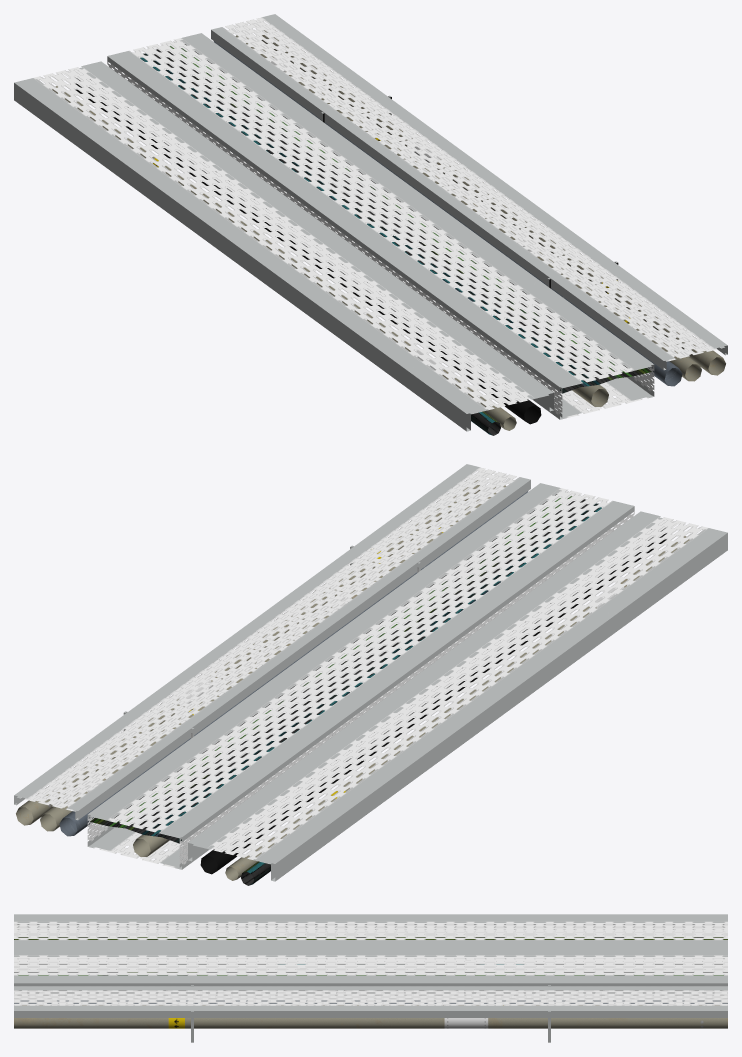
The model's file is SM_Pipes_02.fbx.
The picture shows the model from 3 angles, top to bottom: view 1: azimuth 30°, elevation 25°; view 2: azimuth 150°, elevation 25°; view 3: azimuth 270°, elevation 25°; orthographic projection. The views are drawn at different scales.
Visible parts, largest first — view 1: SM_Pipes_02; view 2: SM_Pipes_02; view 3: SM_Pipes_02.
Boxes of the visible parts, x1,y1,x2,y2 form: SM_Pipes_02: (14, 14, 727, 435); SM_Pipes_02: (14, 464, 727, 885); SM_Pipes_02: (14, 914, 727, 1042).
Size of the model in its own units: 235 by 700 by 33.39.
Materials: 1 (1 with a texture image).
